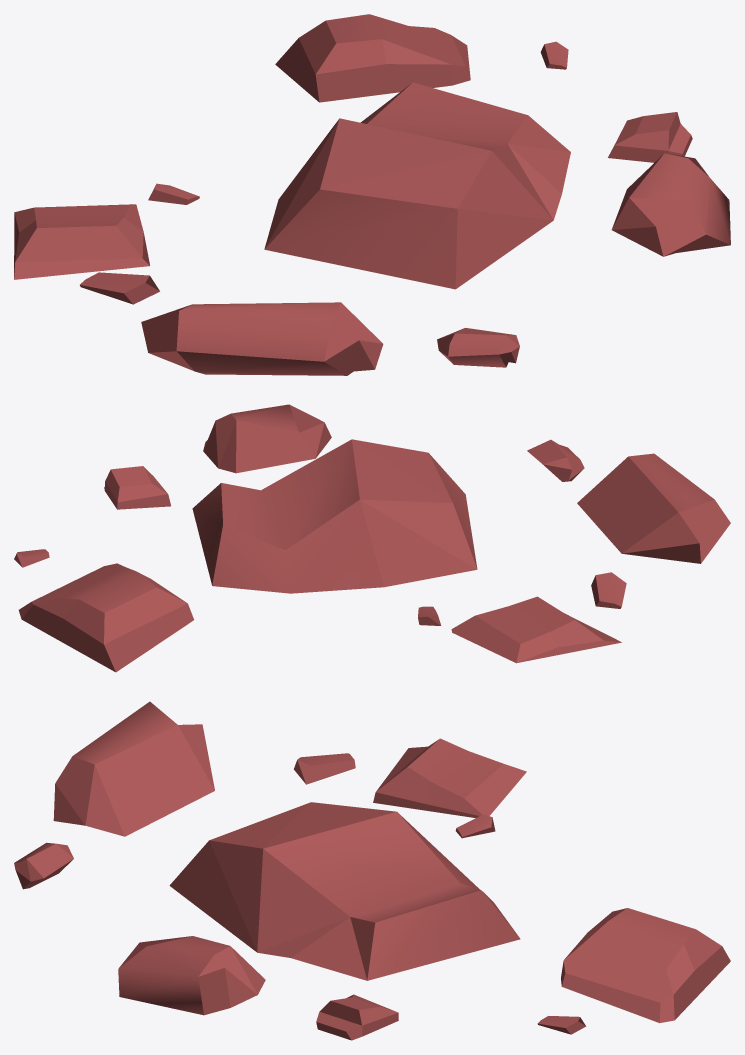
Rendered from SM_Ground_Rock_02.fbx.
3 views of the same model, one above another, from view 1: azimuth 30°, elevation 25°; view 2: azimuth 150°, elevation 25°; view 3: azimuth 270°, elevation 25° (orthographic). The views are drawn at different scales.
Parts seen in each view (by area): view 1: Box069; view 2: Box069; view 3: Box069.
Part boxes in pixels (box(x1,y1,x2,y2)): Box069: box(14, 14, 730, 375); Box069: box(14, 404, 730, 672); Box069: box(14, 701, 730, 1040).
Bounding box in the file's own units: 205 × 31.44 × 209.
